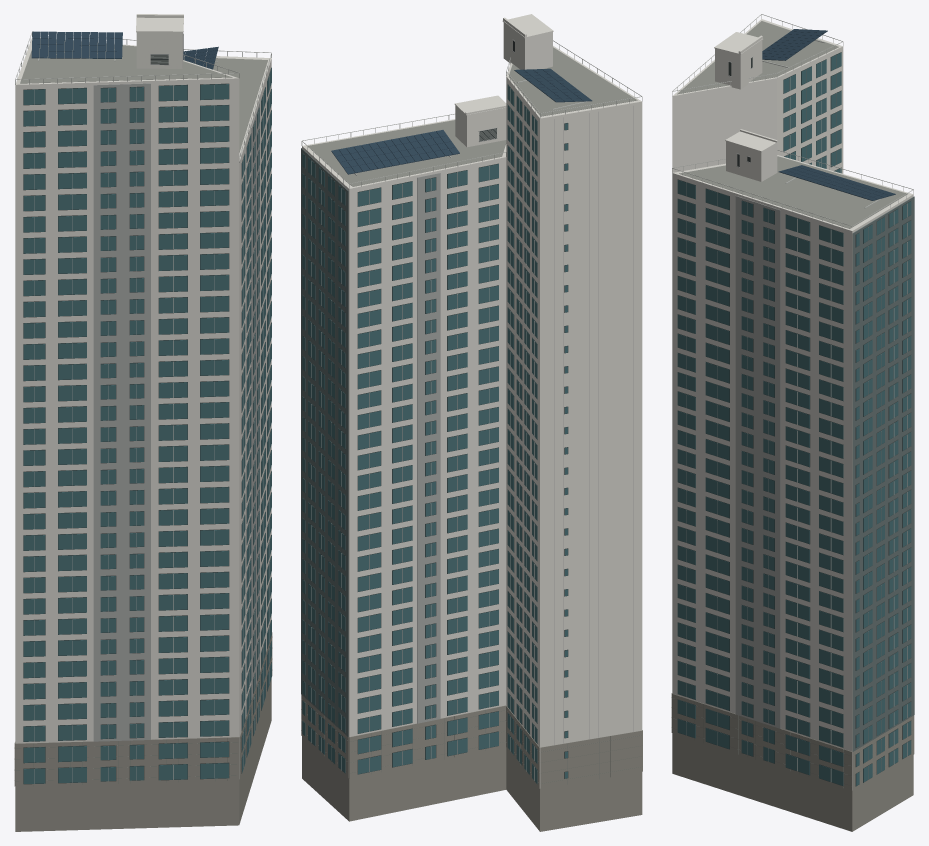
File: bespoke-maple-xi-213.glb
The picture shows the model from 3 angles, left to right: view 1: azimuth 30°, elevation 25°; view 2: azimuth 150°, elevation 25°; view 3: azimuth 270°, elevation 25°; orthographic projection. The views are drawn at different scales.
Visible parts, largest first — view 1: 213_e5_window_glass, 213_wing_0_observed_massing, 213_e5_paint_zone_warm, 213_e5_individually_sized_reveals, 213_e4_window_glass, 213_unverified_solid_ground_mass, 213_wing_1_observed_massing, 213_e5_lower_stone_field, 213_e4_individually_sized_reveals, 213_wing_0_service_roof, 213_e4_paint_zone_warm, 213_e5_window_center_frames (+10 smaller); view 2: 213_wing_0_observed_massing, 213_wing_1_observed_massing, 213_e2_window_glass, 213_e3_paint_zone_graphite, 213_unverified_solid_ground_mass, 213_e3_window_glass, 213_e1_window_glass, 213_e2_paint_zone_warm, 213_e2_individually_sized_reveals, 213_e0_lower_stone_field, 213_wing_1_service_roof, 213_e2_lower_stone_field (+18 smaller); view 3: 213_e4_window_glass, 213_wing_1_observed_massing, 213_e3_paint_zone_graphite, 213_e3_window_glass, 213_e4_paint_zone_warm, 213_wing_0_observed_massing, 213_unverified_solid_ground_mass, 213_e4_individually_sized_reveals, 213_wing_1_service_roof, 213_e4_lower_stone_field, 213_e3_individually_sized_reveals, 213_e1_window_glass (+15 smaller).
Boxes of the visible parts, x1=… form: 213_e5_window_glass: x1=23, y1=84, x2=228, y2=783; 213_wing_0_observed_massing: x1=15, y1=80, x2=239, y2=743; 213_e5_paint_zone_warm: x1=93, y1=83, x2=150, y2=741; 213_e5_individually_sized_reveals: x1=23, y1=83, x2=229, y2=784; 213_e4_window_glass: x1=242, y1=68, x2=271, y2=772; 213_unverified_solid_ground_mass: x1=15, y1=678, x2=271, y2=831; 213_wing_1_observed_massing: x1=239, y1=61, x2=271, y2=778; 213_e5_lower_stone_field: x1=15, y1=737, x2=239, y2=786; 213_e4_individually_sized_reveals: x1=241, y1=67, x2=271, y2=773; 213_wing_0_service_roof: x1=20, y1=38, x2=232, y2=83; 213_e4_paint_zone_warm: x1=251, y1=101, x2=259, y2=699; 213_e5_window_center_frames: x1=34, y1=85, x2=214, y2=783; 213_wing_0_observed_massing: x1=506, y1=78, x2=642, y2=788; 213_wing_1_observed_massing: x1=302, y1=147, x2=506, y2=777; 213_e2_window_glass: x1=358, y1=164, x2=498, y2=774; 213_e3_paint_zone_graphite: x1=301, y1=148, x2=348, y2=737; 213_unverified_solid_ground_mass: x1=302, y1=736, x2=642, y2=831; 213_e3_window_glass: x1=302, y1=153, x2=345, y2=772; 213_e1_window_glass: x1=507, y1=85, x2=537, y2=783; 213_e2_paint_zone_warm: x1=417, y1=173, x2=440, y2=723; 213_e2_individually_sized_reveals: x1=357, y1=163, x2=498, y2=774; 213_e0_lower_stone_field: x1=540, y1=730, x2=642, y2=788; 213_wing_1_service_roof: x1=308, y1=120, x2=506, y2=186; 213_e2_lower_stone_field: x1=349, y1=705, x2=506, y2=778; 213_e4_window_glass: x1=677, y1=180, x2=843, y2=785; 213_wing_1_observed_massing: x1=672, y1=174, x2=913, y2=790; 213_e3_paint_zone_graphite: x1=852, y1=196, x2=914, y2=751; 213_e3_window_glass: x1=856, y1=201, x2=911, y2=786; 213_e4_paint_zone_warm: x1=735, y1=196, x2=780, y2=728; 213_wing_0_observed_massing: x1=672, y1=48, x2=843, y2=173; 213_unverified_solid_ground_mass: x1=672, y1=733, x2=913, y2=831; 213_e4_individually_sized_reveals: x1=677, y1=179, x2=843, y2=786; 213_wing_1_service_roof: x1=679, y1=156, x2=907, y2=228; 213_e4_lower_stone_field: x1=671, y1=693, x2=852, y2=790; 213_e3_individually_sized_reveals: x1=855, y1=201, x2=911, y2=786; 213_e1_window_glass: x1=783, y1=52, x2=841, y2=173.
Bounding box in the file's own units: 46.9 × 115 × 35.39.
